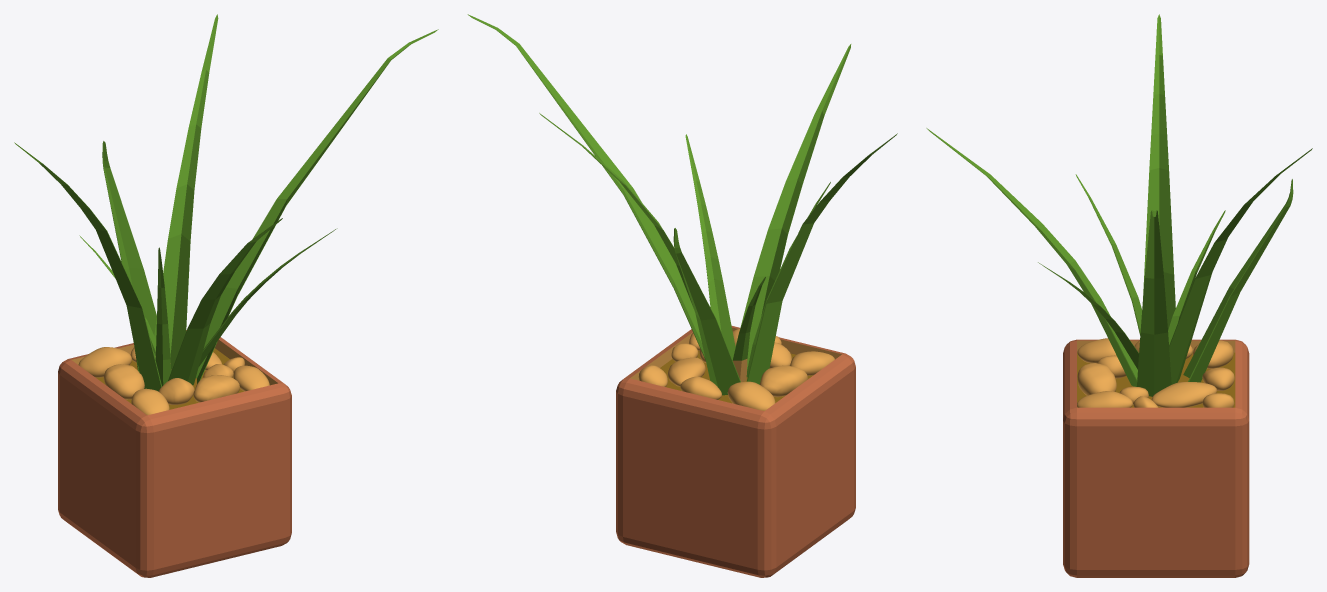
The model's file is planta.fbx.
The picture shows the model from 3 angles, left to right: view 1: azimuth 30°, elevation 25°; view 2: azimuth 150°, elevation 25°; view 3: azimuth 270°, elevation 25°; orthographic projection. The views are drawn at different scales.
Parts seen in each view (by area): view 1: Cactus 1; view 2: Cactus 1; view 3: Cactus 1.
Boxes of the visible parts, left/top/right/bottom form: Cactus 1: left=14, top=14, right=438, bottom=577; Cactus 1: left=467, top=14, right=897, bottom=577; Cactus 1: left=926, top=14, right=1312, bottom=577.
Size of the model in its own units: 87.82 by 87.52 by 66.66.
